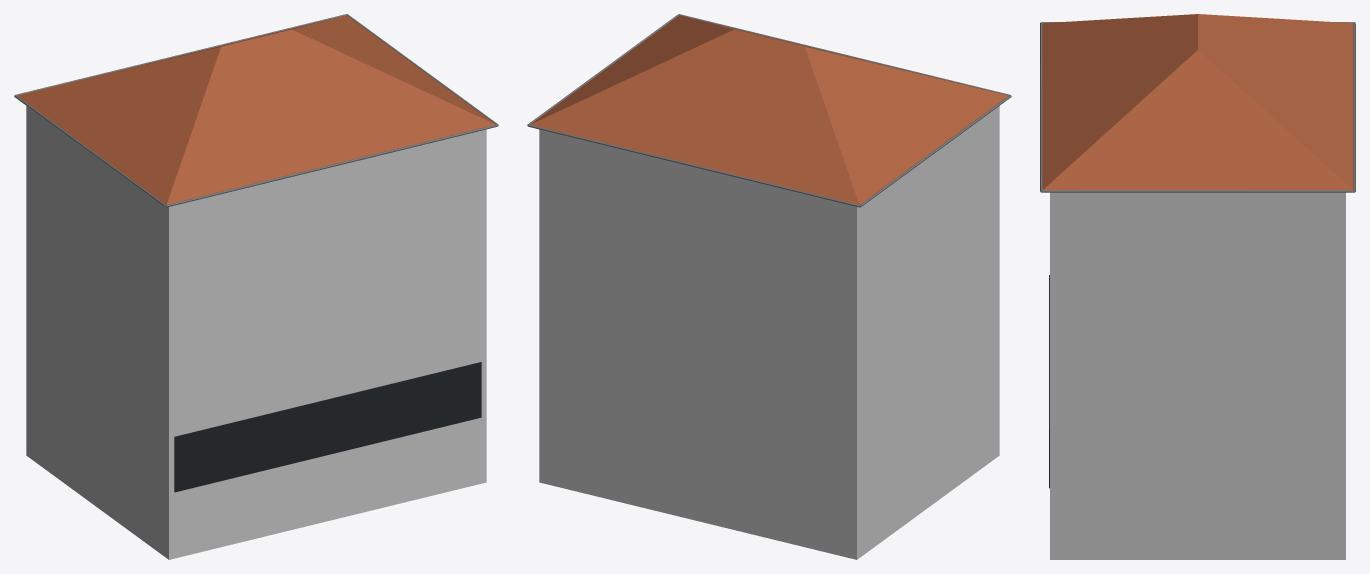
The model's file is bina_03_u.glb.
3 renders of one model, left to right at view 1: azimuth 30°, elevation 25°; view 2: azimuth 150°, elevation 25°; view 3: azimuth 270°, elevation 25°, orthographic. The views are drawn at different scales.
Parts seen in each view (by area): view 1: P03_Apt_Dukkanli_D_L2.001; view 2: P03_Apt_Dukkanli_D_L2.001; view 3: P03_Apt_Dukkanli_D_L2.001.
Boxes of the visible parts, left/top/right/bottom form: P03_Apt_Dukkanli_D_L2.001: left=14, top=14, right=498, bottom=559; P03_Apt_Dukkanli_D_L2.001: left=527, top=14, right=1011, bottom=559; P03_Apt_Dukkanli_D_L2.001: left=1040, top=14, right=1355, bottom=559.
Bounding box in the file's own units: 18.92 × 23.33 × 14.92.
